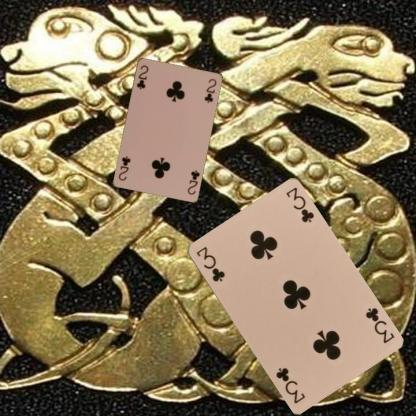2c: (134, 62, 150, 91), (185, 167, 200, 196)
3c: (362, 304, 396, 345), (193, 244, 226, 283)
